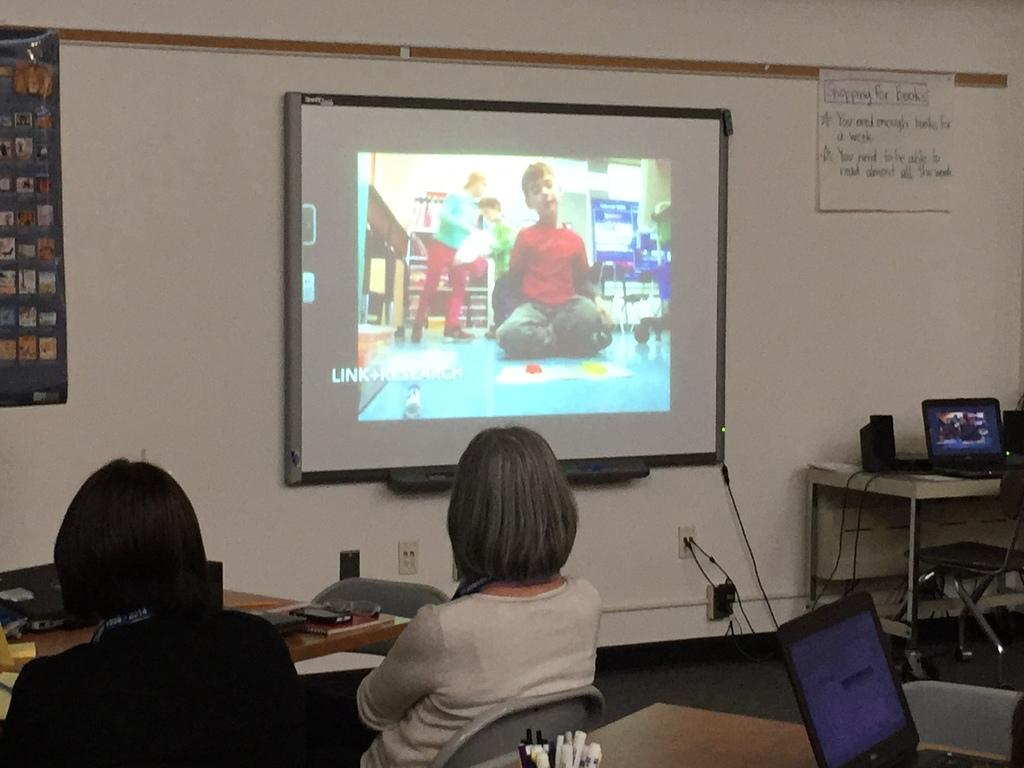Chair: (905, 468, 1023, 685), (430, 684, 605, 767)
Computer-monitor: (278, 88, 729, 489)
Laptop: (920, 396, 1019, 479)
